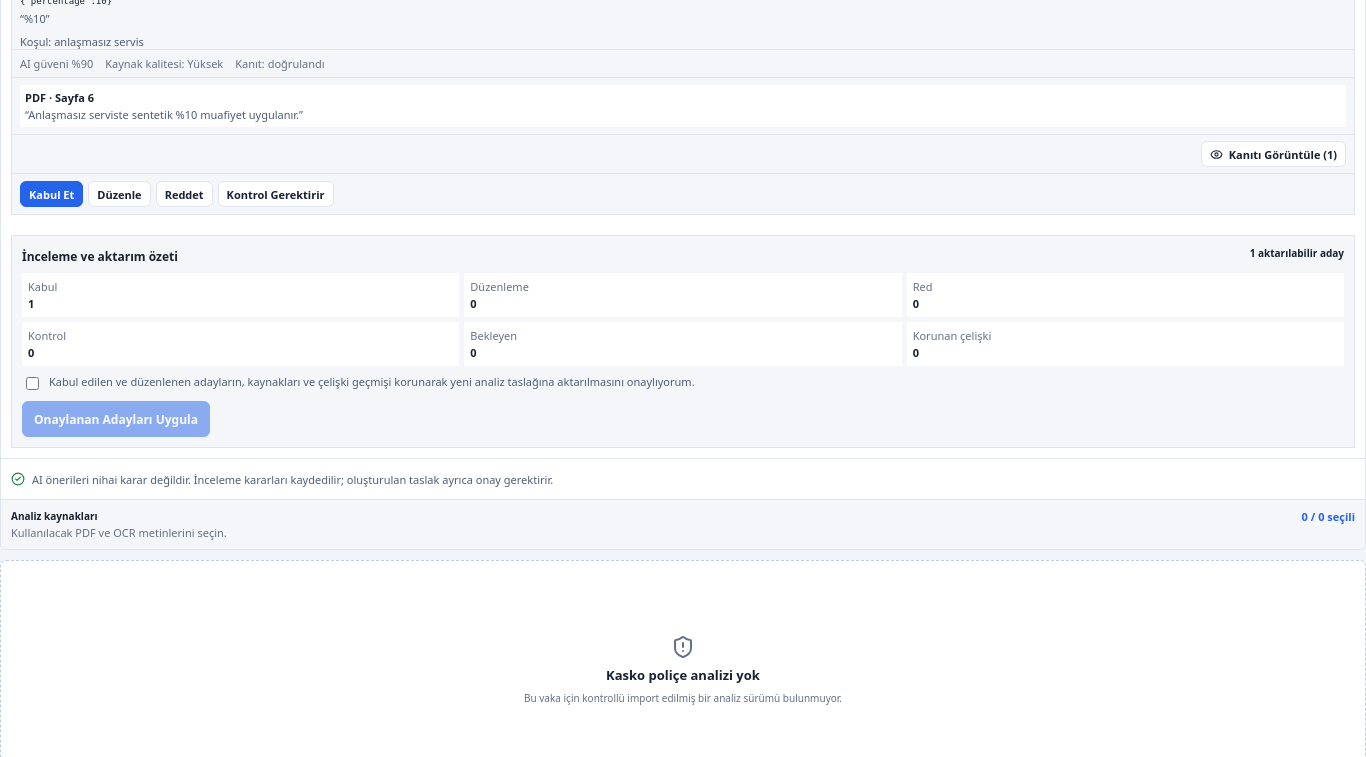
Test: Kasko poliçe analiz uçtan uca çalışma alanı › onaylanan adayı uygular, Paket 23 taslağını yeniler ve kanıtı aynı dosya detayında gösterir
(page scrolled)
Check: the text "Kasko poliçe analizi yok" is shown, box [606,666,760,684]
Click the checkbox named "yeni analiz taslağına aktarılmasını": point(32, 384) [26,377,39,390]
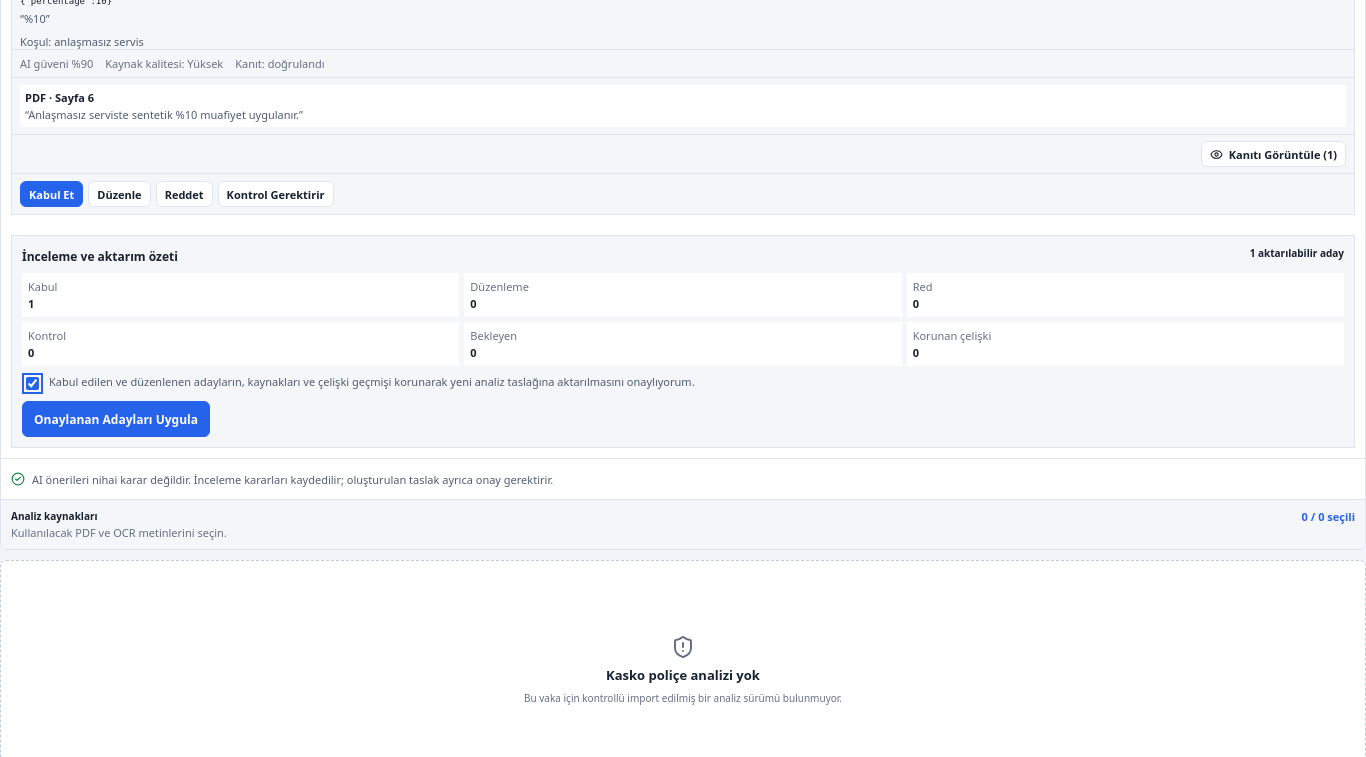
Click the button "Onaylanan Adayları Uygula": point(116, 419) [22,401,210,437]
(page scrolled)
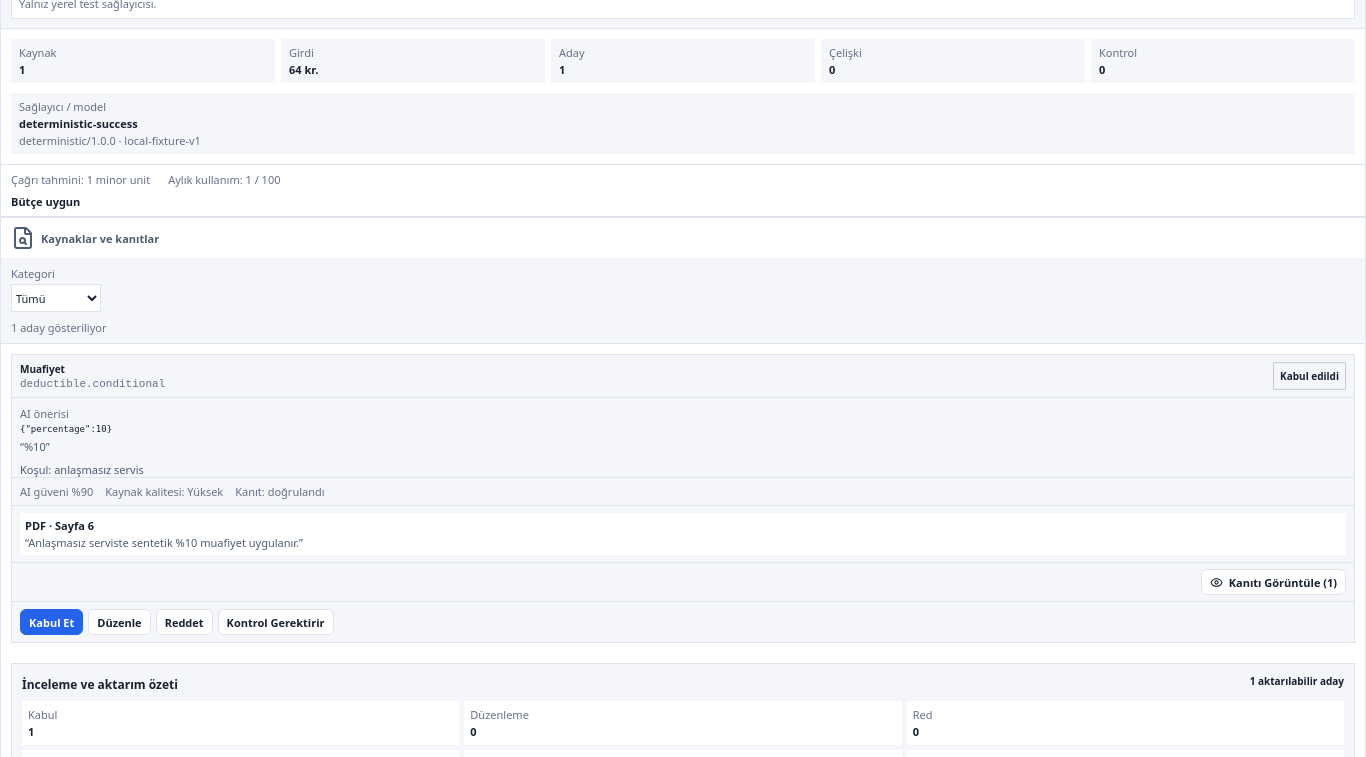
Check: the text "deductible.conditional" is shown, box [20,378,165,390]
